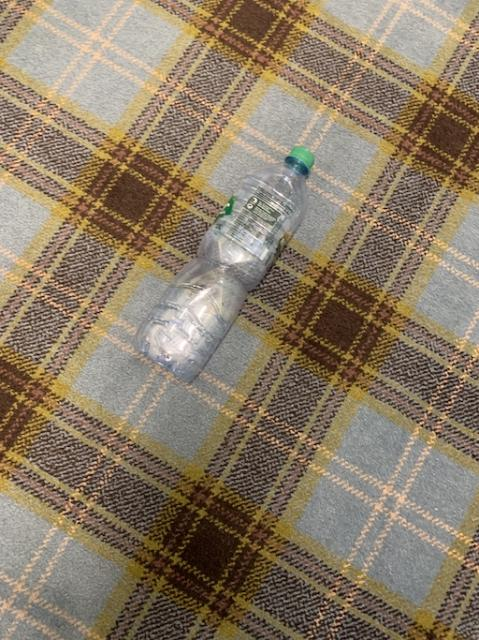plastic: (134, 145, 313, 380)
